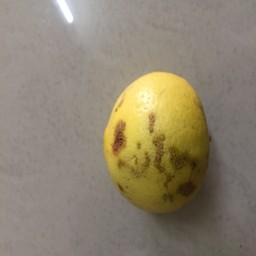Bad_lime: (103, 63, 213, 222)
